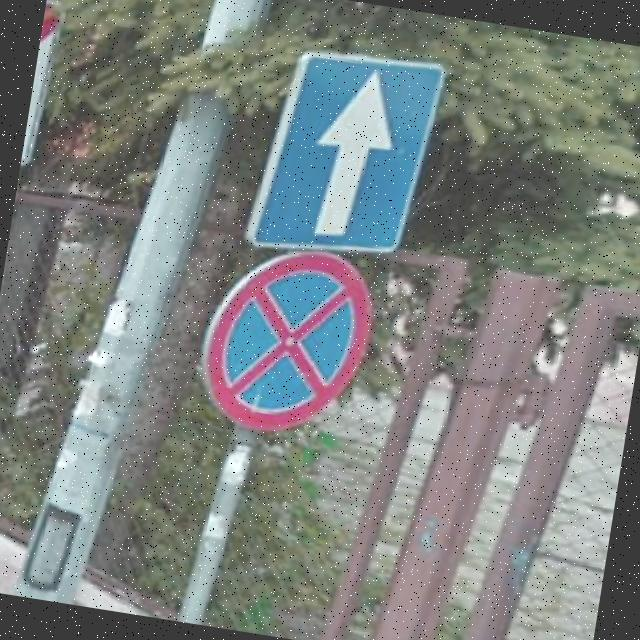Zakaz zatrzymywania sie: (191, 233, 385, 446)
